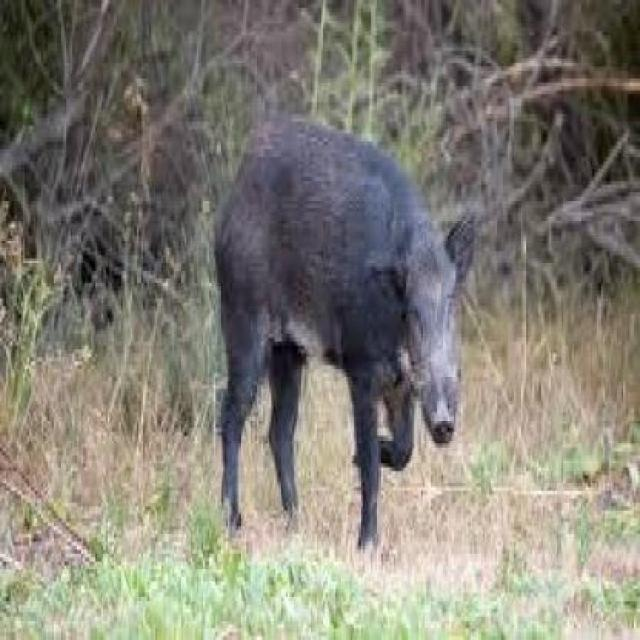wildboar: (204, 112, 485, 560)
